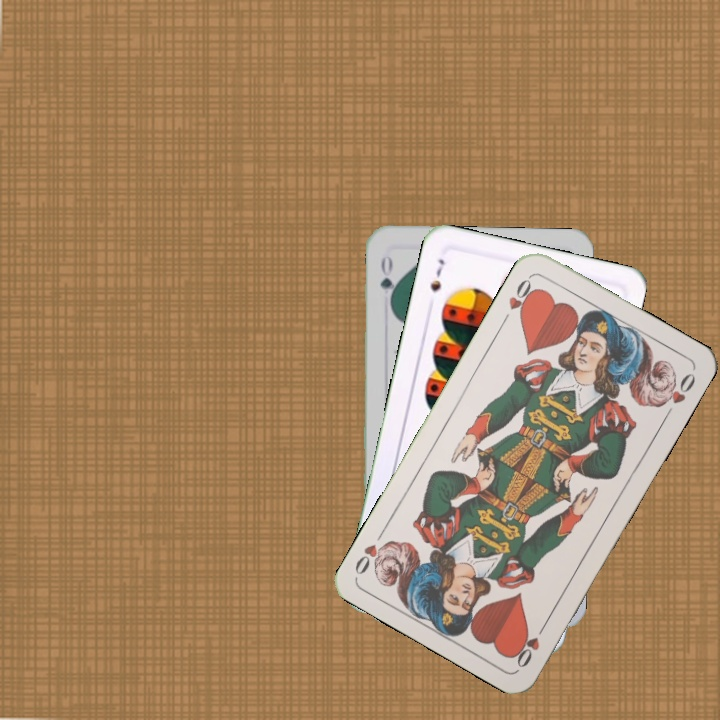GO: (375, 251, 399, 309)
HO: (498, 273, 539, 326), (510, 617, 550, 671)
S7: (426, 255, 447, 294)
